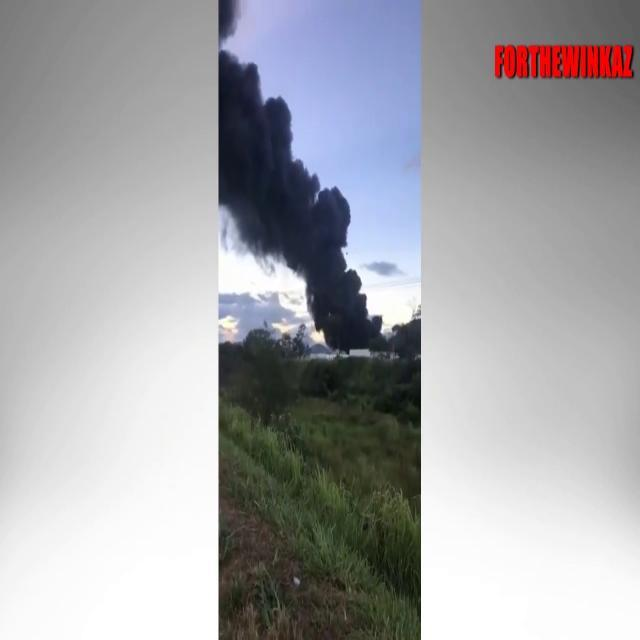Smoke: (219, 22, 413, 365)
